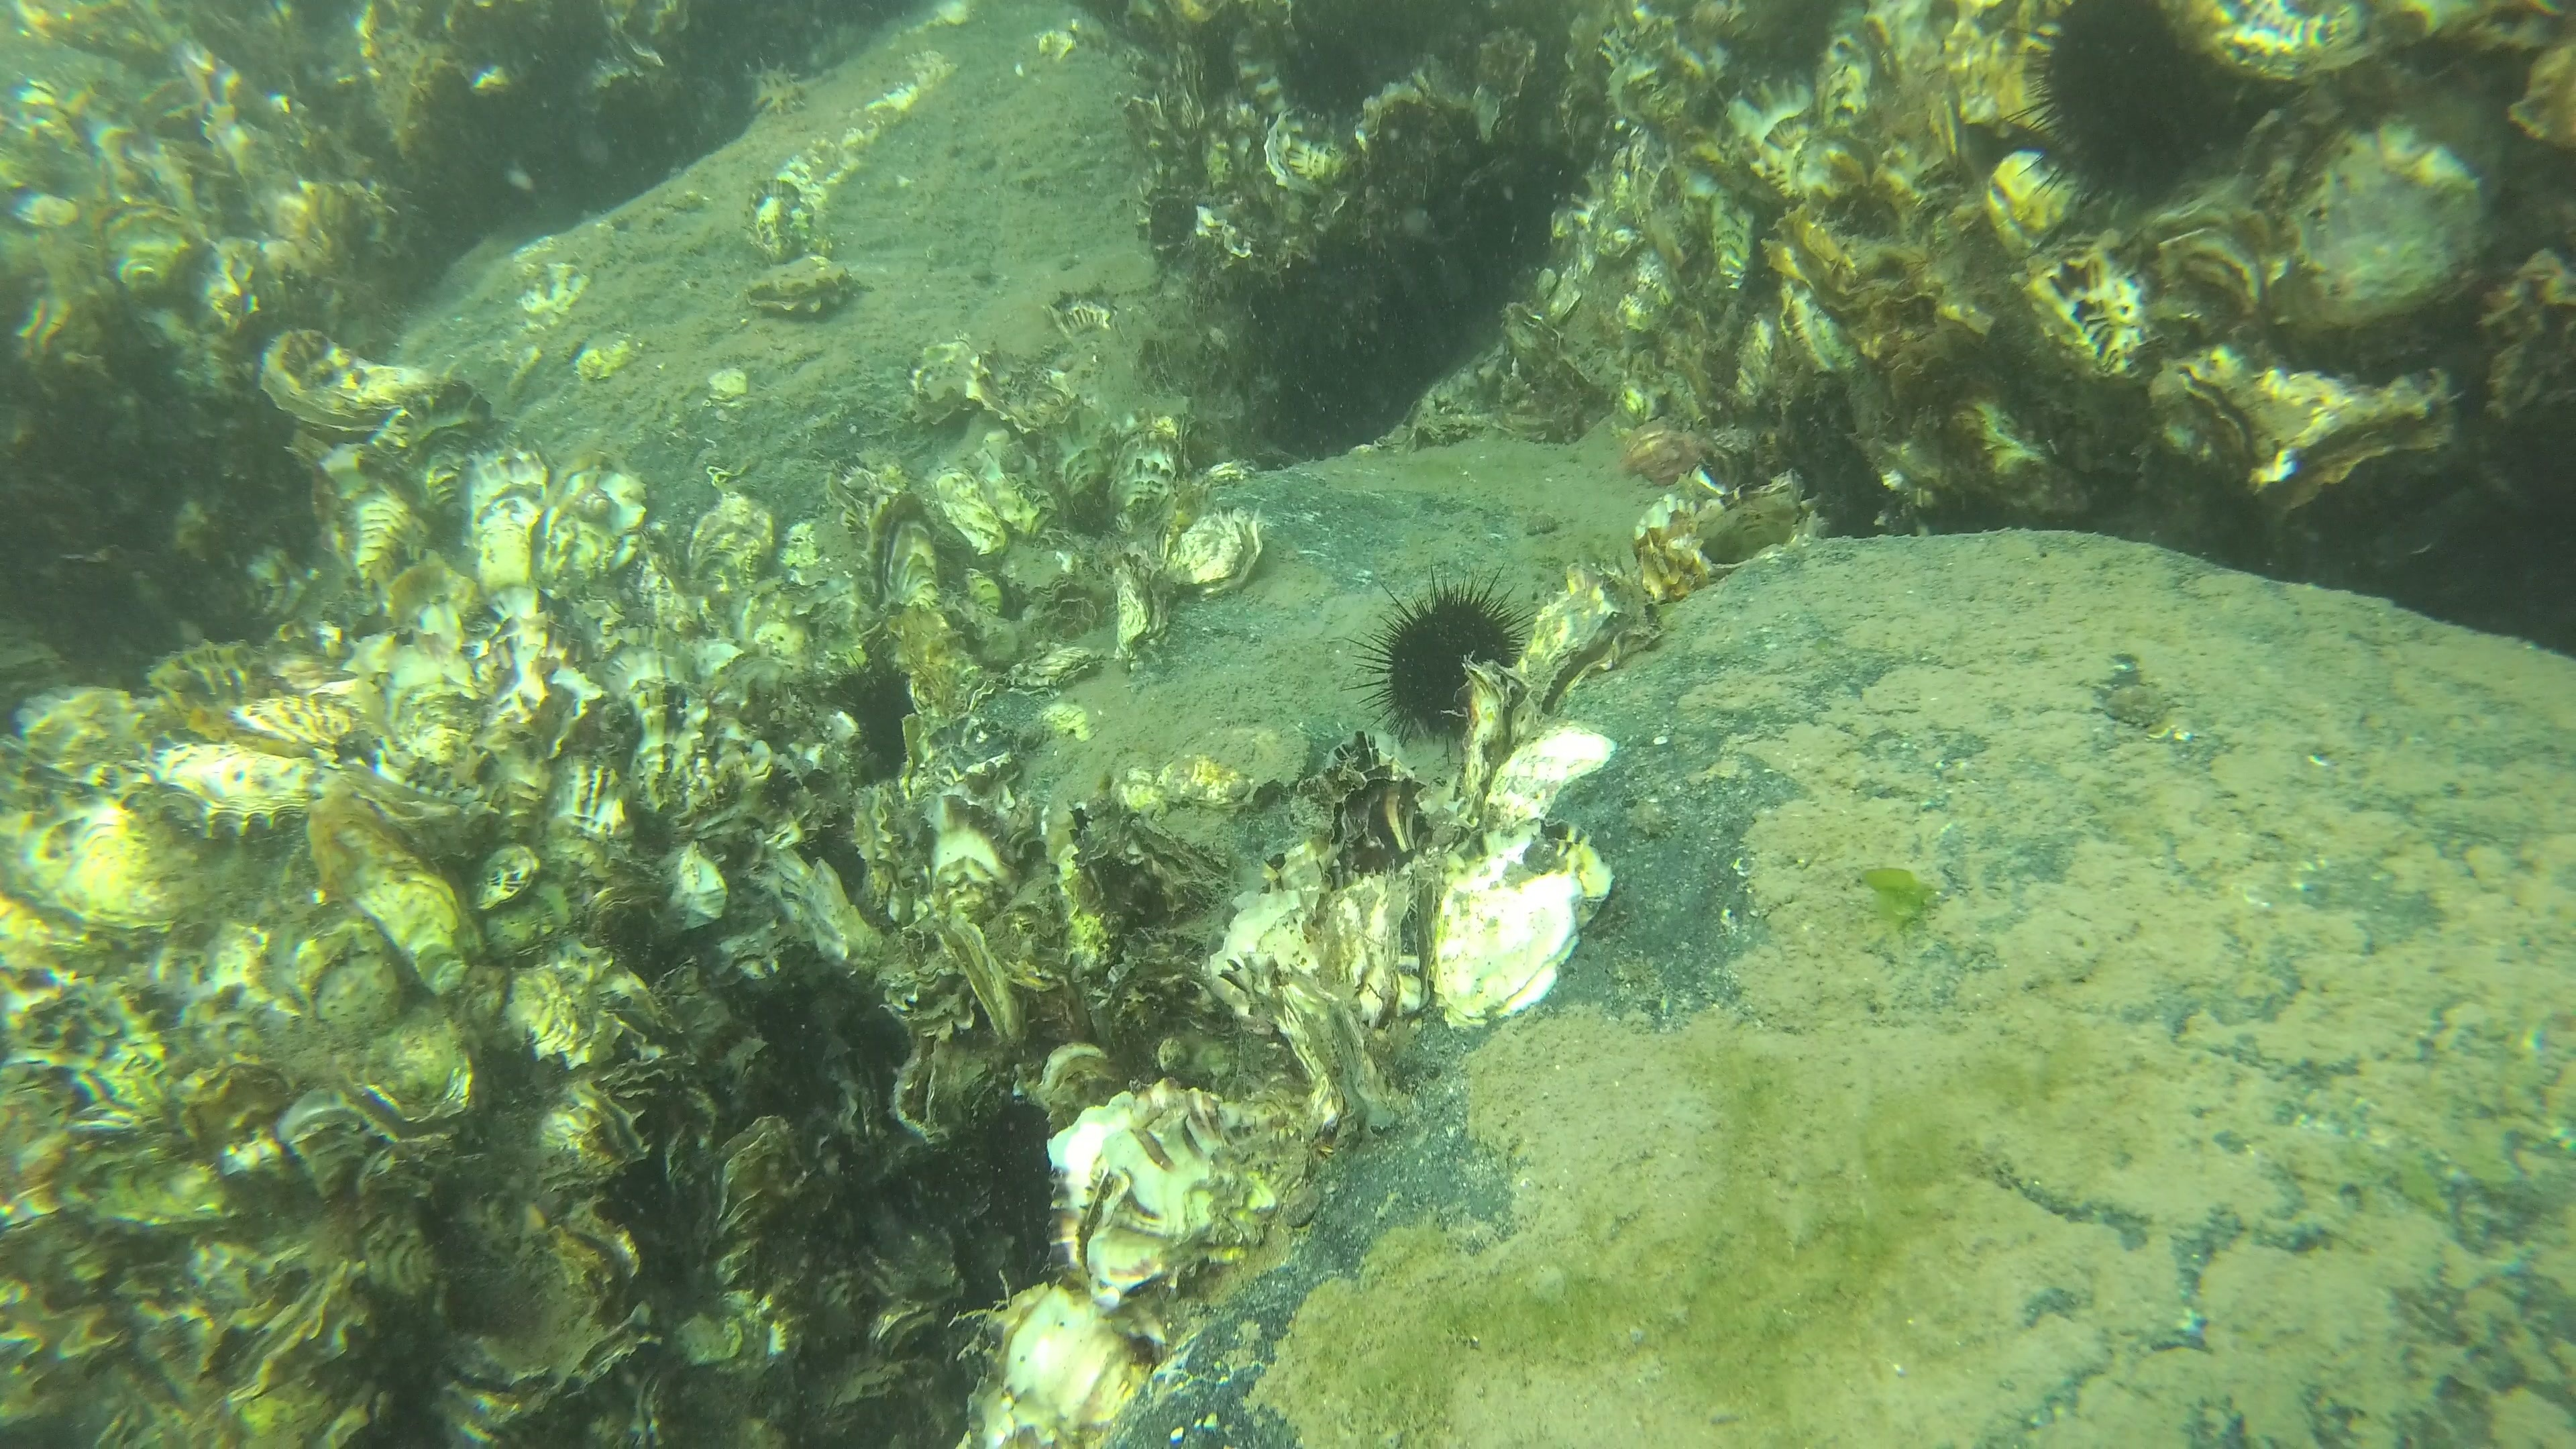echinus: (2017, 4, 2212, 219), (1359, 568, 1529, 743), (830, 662, 913, 770)
holothurian: (736, 57, 814, 124)
